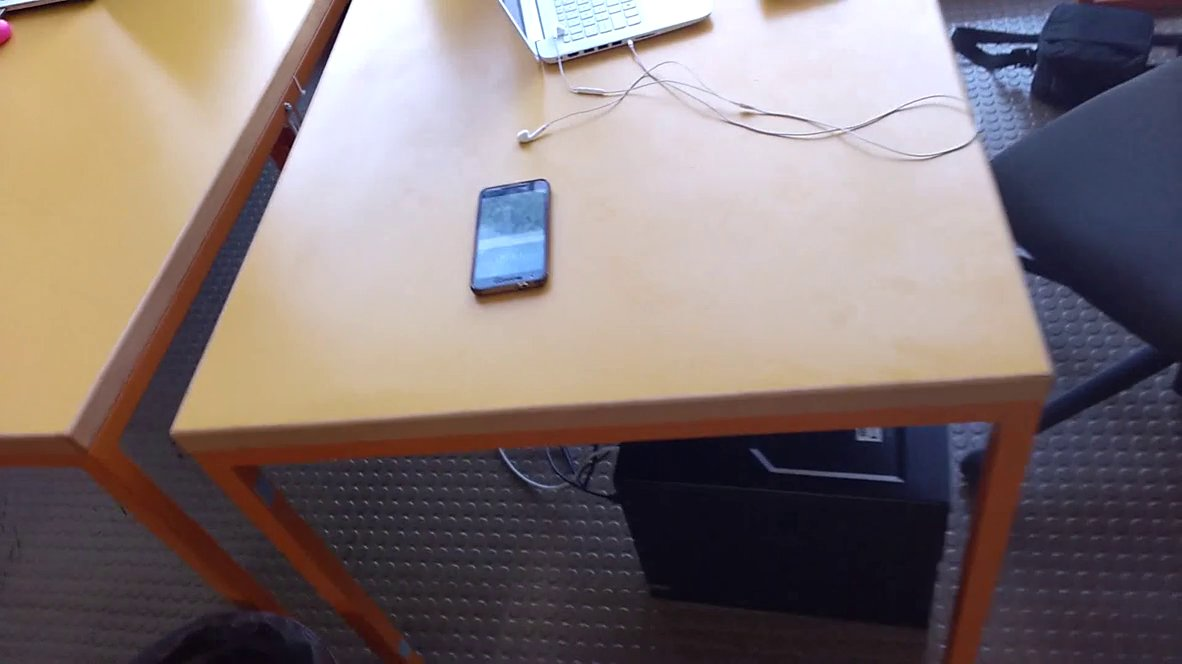phone: (463, 168, 570, 301)
